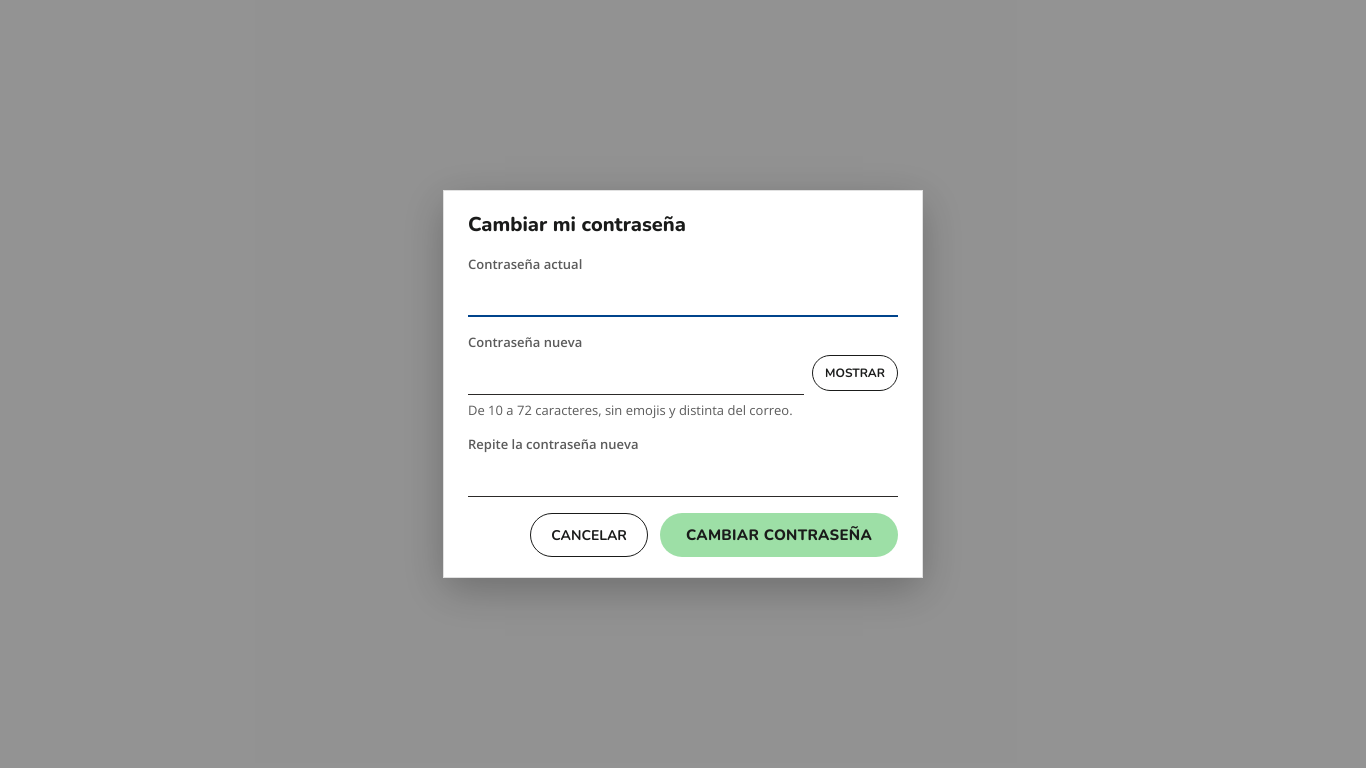
Scenario: ChangePasswordDialog › muestra el mensaje del servidor si rechaza el cambio
Type "actual-clave-1" into the password field labelled "Contraseña actual". click: [683, 295]
box: [468,273,898,317]
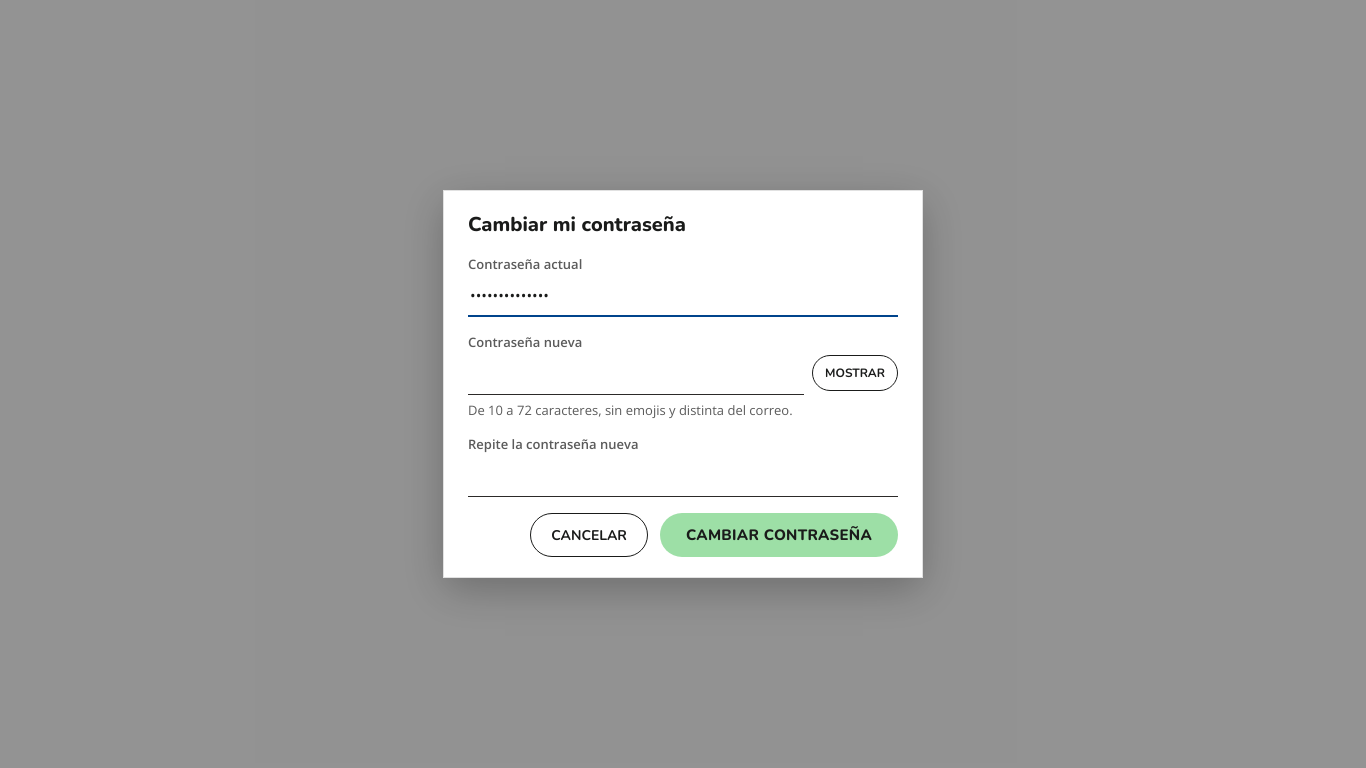
Type "una-clave-larga-1" into the password field labelled "Contraseña nueva". click: [636, 373]
box: [468,351,804,395]
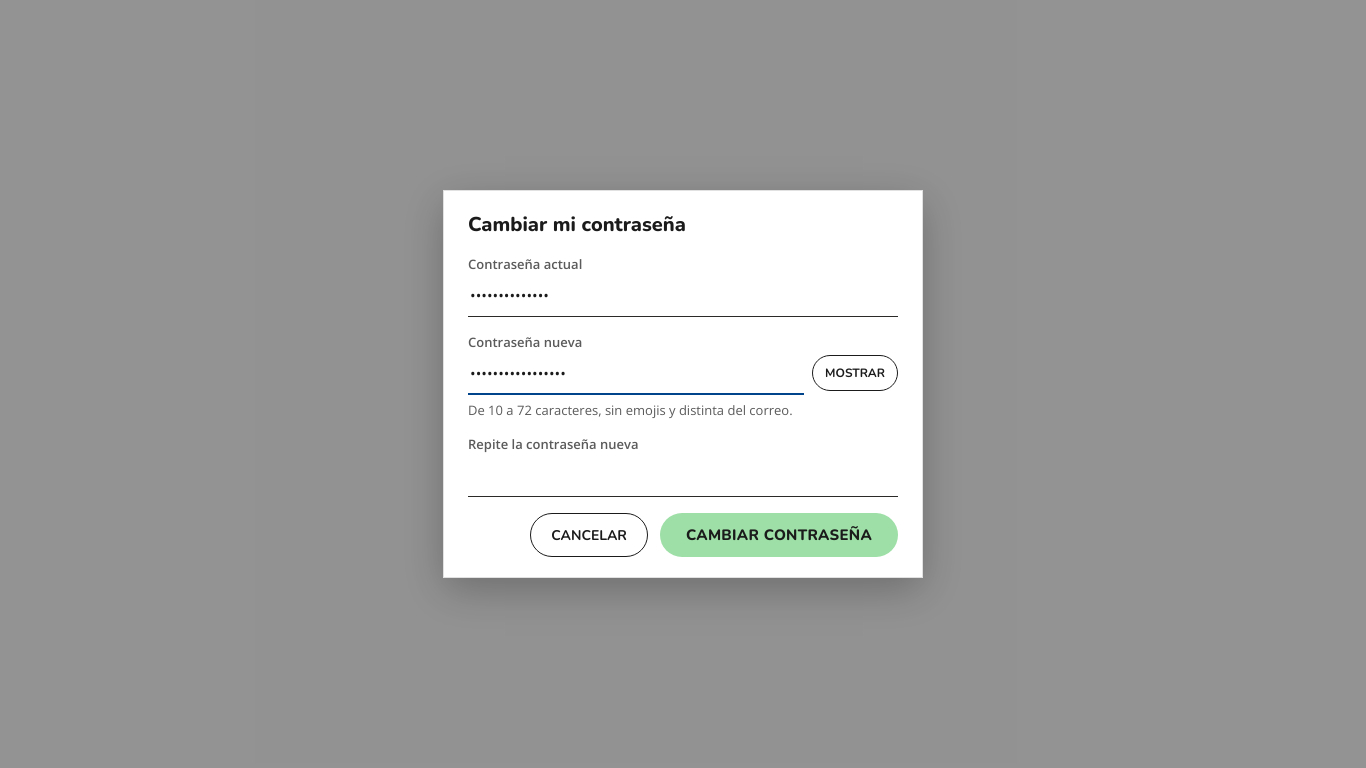
Type "una-clave-larga-1" into the password field labelled "Repite la contraseña nueva". click: [683, 475]
box: [468,453,898,497]
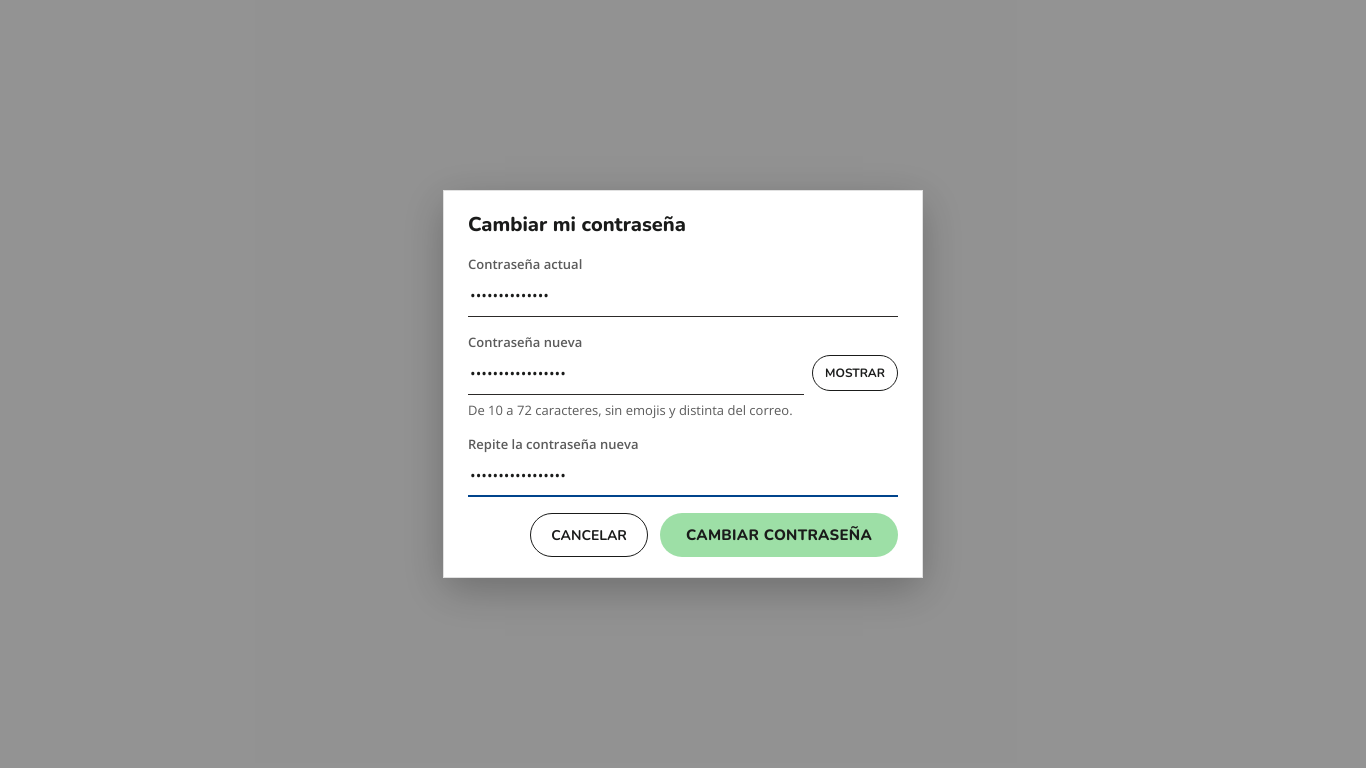
Click the button "Cambiar contraseña". click: [779, 535]
box: [660,513,898,557]
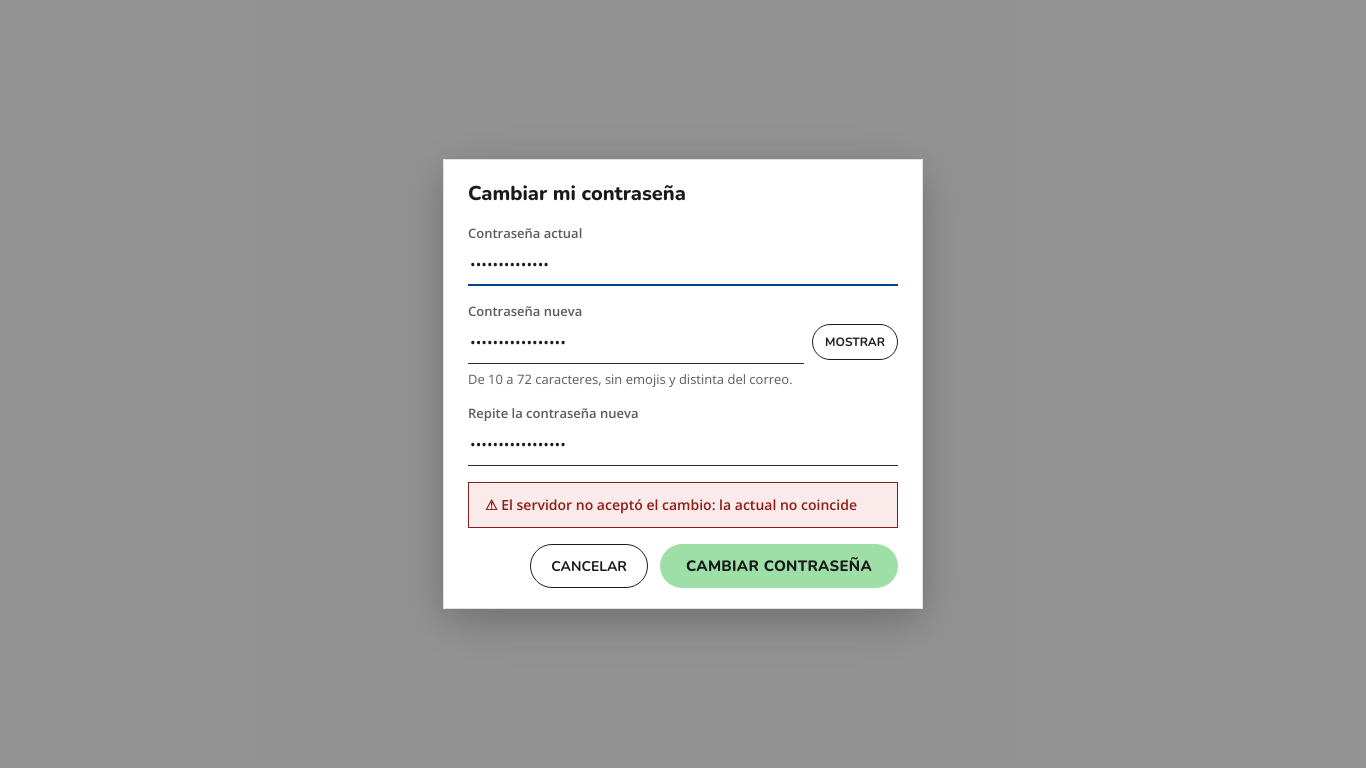
Expected: the button "Cambiar contraseña" is enabled, [660,544,898,588]
Now the text "⚠ El servidor no aceptó el cambio: la actual no coincide" is shown, box [468,482,898,528]
